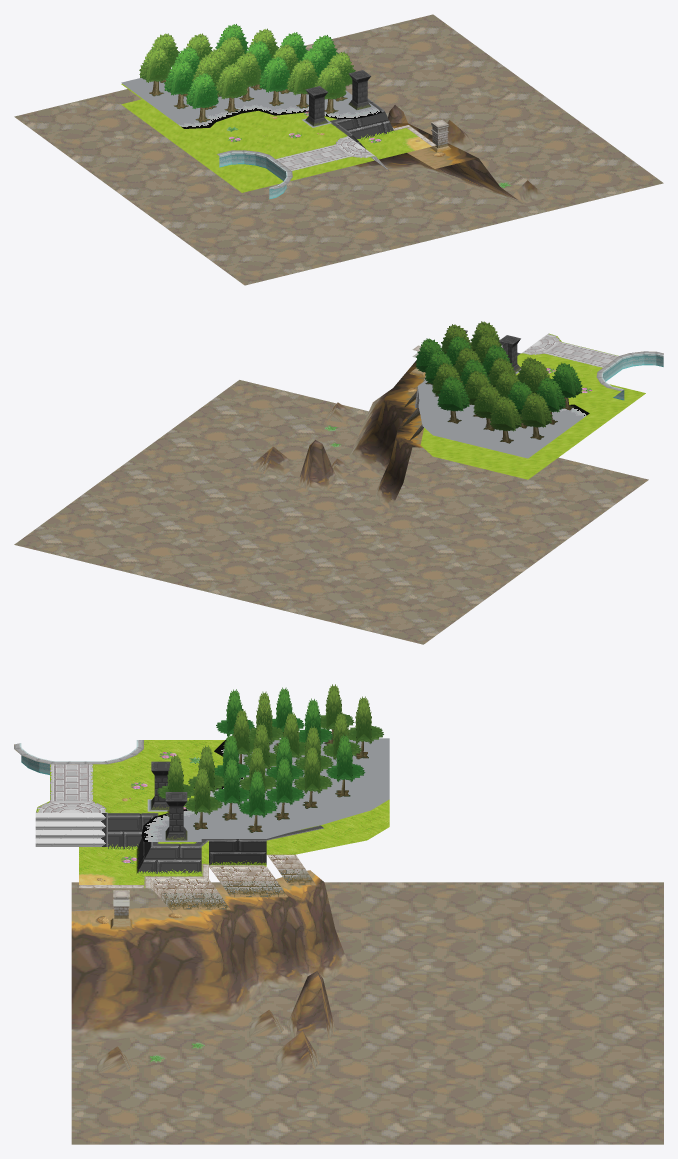
The picture shows the model from 3 angles, top to bottom: view 1: azimuth 30°, elevation 25°; view 2: azimuth 150°, elevation 25°; view 3: azimuth 270°, elevation 25°; orthographic projection. The views are drawn at different scales.
Visible parts, largest first — view 1: polygon17, polygon7, polygon13, polygon18, polygon16, polygon14, polygon19, polygon0, polygon23, polygon25, polygon12, polygon10 (+4 smaller); view 2: polygon17, polygon18, polygon7, polygon13, polygon14, polygon16, polygon23, polygon25, polygon10; view 3: polygon17, polygon18, polygon7, polygon14, polygon13, polygon0, polygon16, polygon10, polygon4, polygon5, polygon15, polygon26 (+4 smaller).
Boxes of the visible parts, x1=… form: polygon17: x1=14, y1=14, x2=663, y2=285; polygon7: x1=121, y1=84, x2=415, y2=192; polygon13: x1=139, y1=28, x2=355, y2=99; polygon18: x1=350, y1=105, x2=546, y2=205; polygon16: x1=164, y1=24, x2=338, y2=108; polygon14: x1=121, y1=78, x2=381, y2=128; polygon19: x1=305, y1=70, x2=371, y2=125; polygon0: x1=329, y1=98, x2=394, y2=149; polygon23: x1=276, y1=144, x2=349, y2=171; polygon25: x1=219, y1=153, x2=286, y2=199; polygon12: x1=152, y1=81, x2=342, y2=119; polygon10: x1=140, y1=57, x2=352, y2=99; polygon17: x1=14, y1=380, x2=648, y2=644; polygon18: x1=253, y1=360, x2=424, y2=509; polygon7: x1=420, y1=353, x2=645, y2=479; polygon13: x1=432, y1=321, x2=552, y2=431; polygon14: x1=417, y1=380, x2=589, y2=458; polygon16: x1=415, y1=336, x2=582, y2=412; polygon23: x1=546, y1=342, x2=618, y2=367; polygon25: x1=602, y1=354, x2=663, y2=400; polygon10: x1=432, y1=349, x2=550, y2=430; polygon17: x1=71, y1=882, x2=663, y2=1144; polygon18: x1=71, y1=870, x2=349, y2=1075; polygon7: x1=79, y1=740, x2=389, y2=884; polygon14: x1=141, y1=738, x2=389, y2=841; polygon13: x1=167, y1=684, x2=371, y2=814; polygon0: x1=108, y1=813, x2=324, y2=874; polygon16: x1=222, y1=687, x2=352, y2=817; polygon10: x1=157, y1=713, x2=383, y2=812; polygon4: x1=79, y1=854, x2=304, y2=898; polygon5: x1=161, y1=868, x2=315, y2=912; polygon15: x1=213, y1=717, x2=365, y2=815; polygon26: x1=35, y1=813, x2=107, y2=846.
Bounding box in the file's own units: 10.93 × 4.14 × 11.25.
